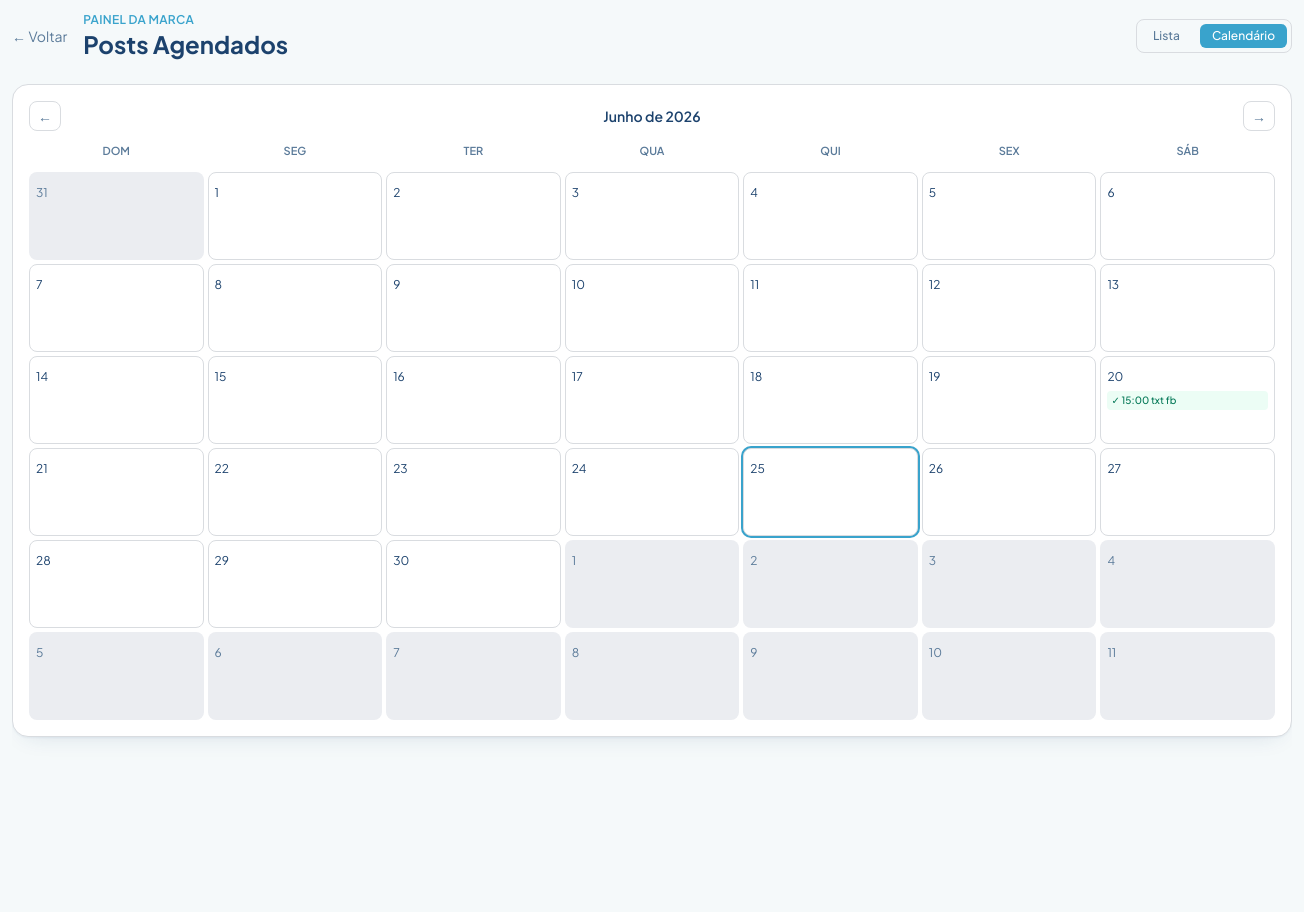
Scenario: ScheduledPostsPage › posts publicados › mostra cada rede como publicada (✓) quando todas receberam o post
What coordinates should you click on to do the following:
click the button "Lista"
I would click on:
 (1166, 36)
Its box is [1141,24,1192,48].
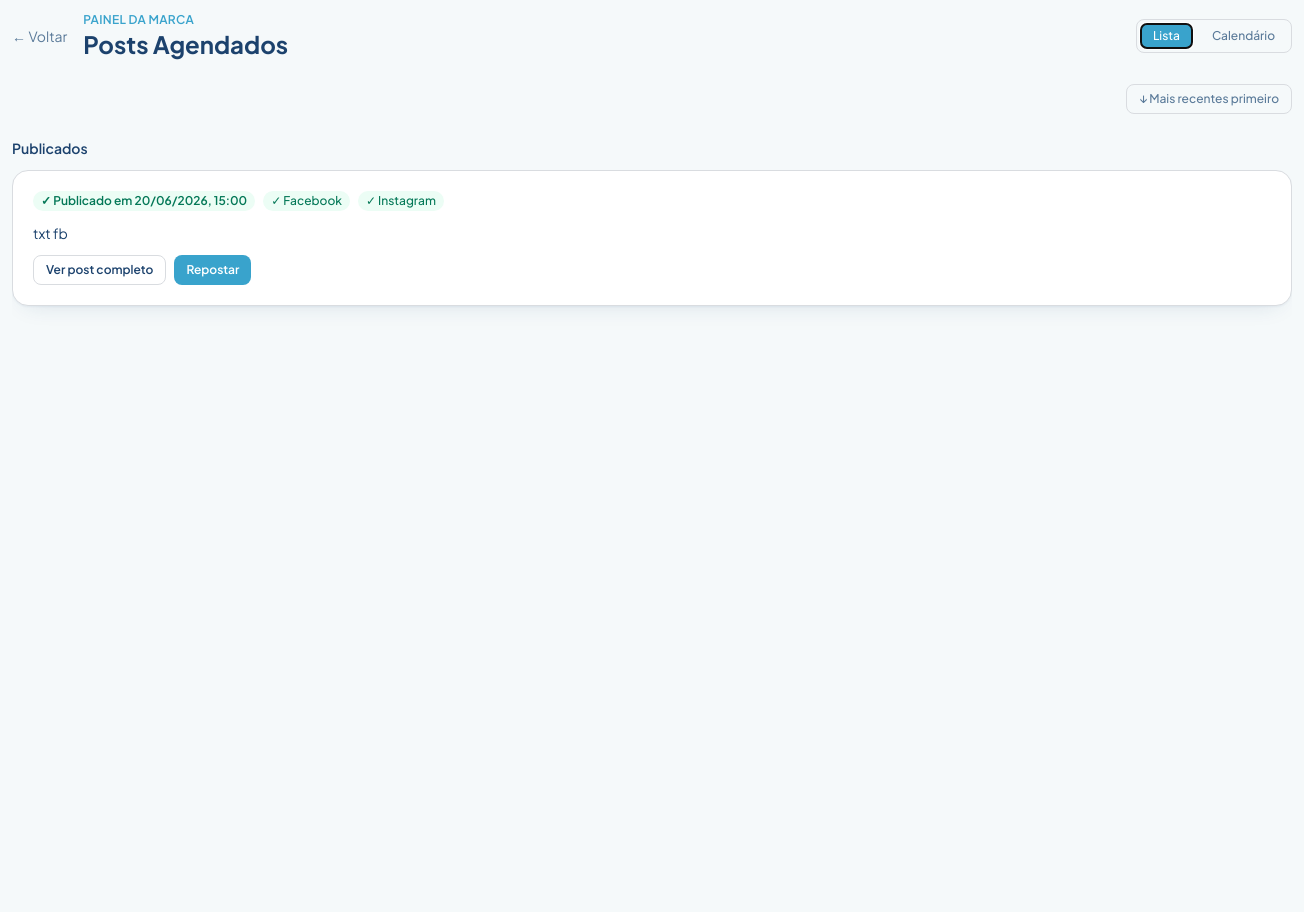
Expected: the text "✓ Facebook" is shown, [263,191,350,211]
Expected: the text "✓ Instagram" is shown, [358,191,444,211]
Expected: the text "✓ Publicado em 20/06/2026, 15:00" is shown, [33,191,255,211]
